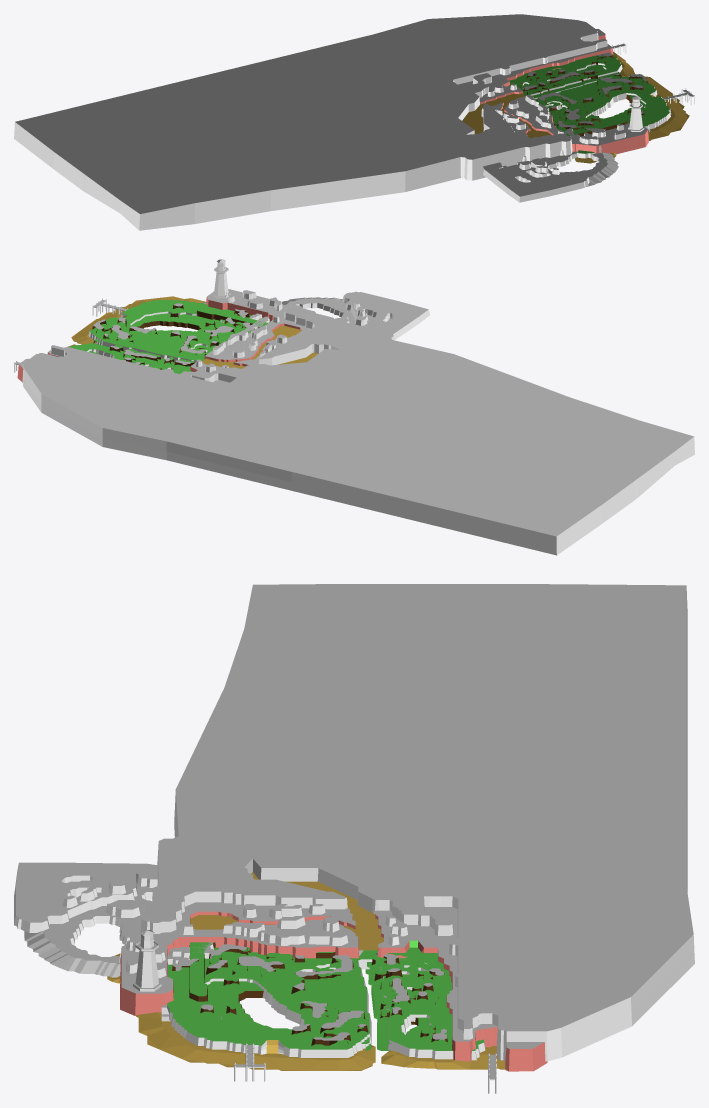
The model's file is new_old_mapd.glb.
The picture shows the model from 3 angles, top to bottom: view 1: azimuth 30°, elevation 25°; view 2: azimuth 150°, elevation 25°; view 3: azimuth 270°, elevation 25°; orthographic projection. The views are drawn at different scales.
Visible parts, largest first — view 1: expanded_main, main001, Plane, lighthouse; view 2: expanded_main, main001, Plane, lighthouse; view 3: expanded_main, main001, Plane, lighthouse, docks.
Part boxes in pixels (left/top/right/bottom): expanded_main: left=14, top=14, right=689, bottom=230; main001: left=482, top=128, right=618, bottom=202; Plane: left=508, top=54, right=645, bottom=136; lighthouse: left=628, top=96, right=644, bottom=131; expanded_main: left=17, top=289, right=694, bottom=555; main001: left=249, top=291, right=429, bottom=340; Plane: left=79, top=308, right=267, bottom=373; lighthouse: left=212, top=259, right=230, bottom=298; expanded_main: left=107, top=584, right=694, bottom=1071; main001: left=14, top=862, right=214, bottom=977; Plane: left=189, top=942, right=452, bottom=1050; lighthouse: left=133, top=930, right=161, bottom=991; docks: left=234, top=1043, right=496, bottom=1093.
Bounding box in the file's own units: 388 × 34.1 × 239.
